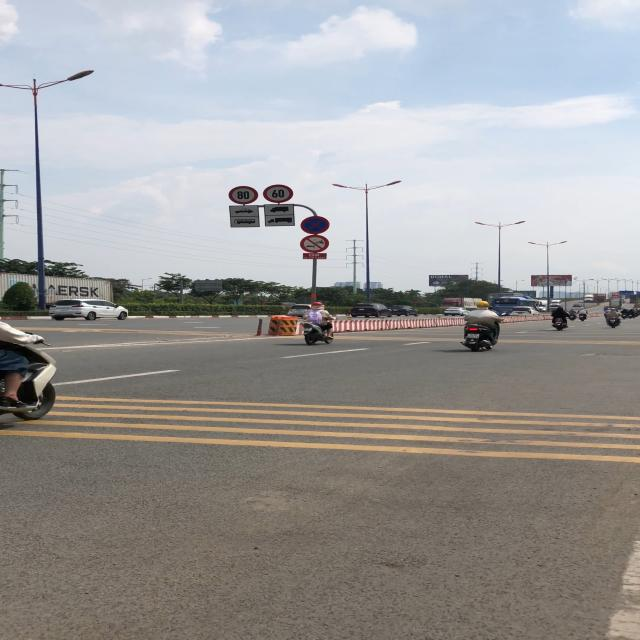Bien bao cam dung xe va do xe: (300, 216, 330, 234)
Bien bao toc do toi da cho phep: (228, 185, 260, 204), (262, 184, 295, 202)
